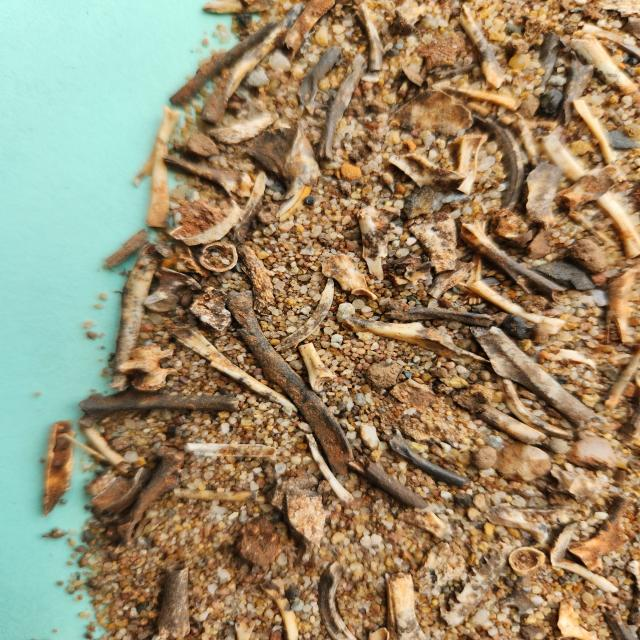fossil: (222, 287, 358, 476), (465, 321, 617, 433), (196, 2, 308, 130), (531, 134, 640, 258), (161, 321, 299, 418), (457, 218, 568, 307), (106, 241, 171, 392), (340, 314, 506, 373), (168, 21, 280, 108), (110, 444, 192, 548), (242, 122, 332, 200), (435, 544, 513, 630), (489, 370, 583, 440), (263, 470, 328, 568), (466, 279, 569, 339), (543, 519, 623, 595), (566, 492, 637, 576), (314, 63, 372, 164), (143, 100, 186, 233), (572, 98, 632, 192), (452, 3, 512, 93), (384, 428, 474, 488), (471, 111, 524, 211), (294, 420, 356, 505), (561, 30, 637, 98), (272, 276, 337, 352), (382, 567, 448, 640), (346, 454, 432, 510), (39, 415, 83, 524), (388, 86, 473, 141), (75, 392, 244, 418), (255, 571, 315, 640), (160, 154, 254, 197), (76, 415, 140, 478), (315, 558, 364, 640), (291, 43, 345, 116), (378, 295, 496, 328), (550, 165, 629, 213), (168, 198, 246, 246), (355, 203, 402, 281), (279, 0, 339, 60), (383, 151, 468, 193), (88, 463, 153, 517), (550, 50, 596, 126), (152, 562, 196, 640), (408, 213, 462, 276), (472, 405, 550, 447), (232, 244, 276, 317), (139, 264, 203, 314), (602, 264, 640, 346), (579, 17, 640, 68), (115, 342, 176, 392), (443, 133, 491, 196), (524, 158, 566, 230), (433, 80, 524, 113), (232, 515, 286, 570), (230, 170, 270, 244), (318, 253, 379, 301), (498, 112, 548, 170), (173, 438, 293, 462), (480, 502, 552, 542), (460, 218, 490, 310), (531, 257, 601, 296), (601, 340, 640, 409), (493, 562, 540, 618), (203, 110, 276, 146), (385, 375, 448, 415), (390, 509, 464, 543), (153, 240, 214, 280), (549, 462, 602, 508), (97, 228, 152, 272), (433, 50, 513, 80), (528, 26, 562, 96), (352, 3, 385, 73), (294, 342, 340, 392), (424, 258, 476, 300), (190, 286, 235, 333), (568, 211, 620, 251), (167, 486, 276, 504), (554, 599, 599, 640), (486, 204, 532, 243), (417, 34, 466, 70), (55, 428, 108, 460), (447, 383, 498, 415), (278, 182, 314, 225), (194, 243, 242, 275), (550, 346, 600, 376), (198, 0, 280, 17), (395, 188, 438, 220), (365, 360, 409, 390), (182, 131, 222, 163), (506, 545, 546, 577), (385, 7, 422, 41), (601, 608, 640, 640), (275, 182, 307, 219), (615, 406, 640, 448), (468, 440, 498, 473), (356, 419, 384, 452), (230, 612, 262, 640), (256, 200, 282, 225), (398, 64, 425, 87), (618, 14, 640, 42), (623, 558, 640, 594), (394, 76, 413, 100), (367, 625, 392, 640), (417, 60, 433, 80)
